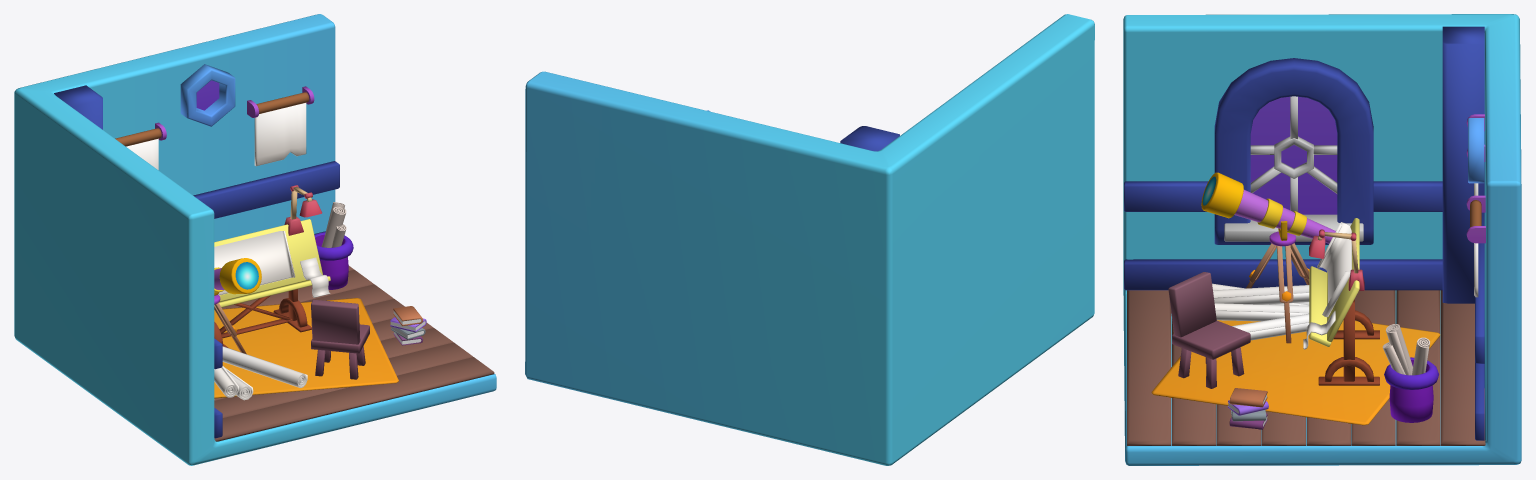
Rendered from thienvan.fbx.
3 renders of one model, left to right at view 1: azimuth 30°, elevation 25°; view 2: azimuth 150°, elevation 25°; view 3: azimuth 270°, elevation 25°, orthographic. The views are drawn at different scales.
Parts seen in each view (by area): view 1: Icosphere.003, Icosphere.010, Icosphere.005, Icosphere.004, Icosphere.006, Icosphere.007, Icosphere.002; view 2: Icosphere.003; view 3: Icosphere.003, Icosphere.010, Icosphere.005, Icosphere.007, Icosphere.006, Icosphere.002, Icosphere.004.
Boxes of the visible parts, x1,y1,x2,y2 form: Icosphere.003: (14, 14, 496, 465); Icosphere.010: (214, 298, 398, 400); Icosphere.005: (214, 185, 330, 347); Icosphere.004: (115, 86, 314, 169); Icosphere.006: (314, 202, 353, 289); Icosphere.007: (214, 258, 261, 354); Icosphere.002: (390, 306, 426, 345); Icosphere.003: (525, 14, 1094, 465); Icosphere.003: (1123, 14, 1521, 465); Icosphere.010: (1151, 272, 1440, 425); Icosphere.005: (1303, 218, 1379, 385); Icosphere.007: (1201, 172, 1335, 343); Icosphere.006: (1382, 324, 1438, 422); Icosphere.002: (1228, 388, 1268, 429); Icosphere.004: (1466, 114, 1485, 297).
Size of the model in its own units: 1514 by 1175 by 1490.
1 material, 1 textured.
